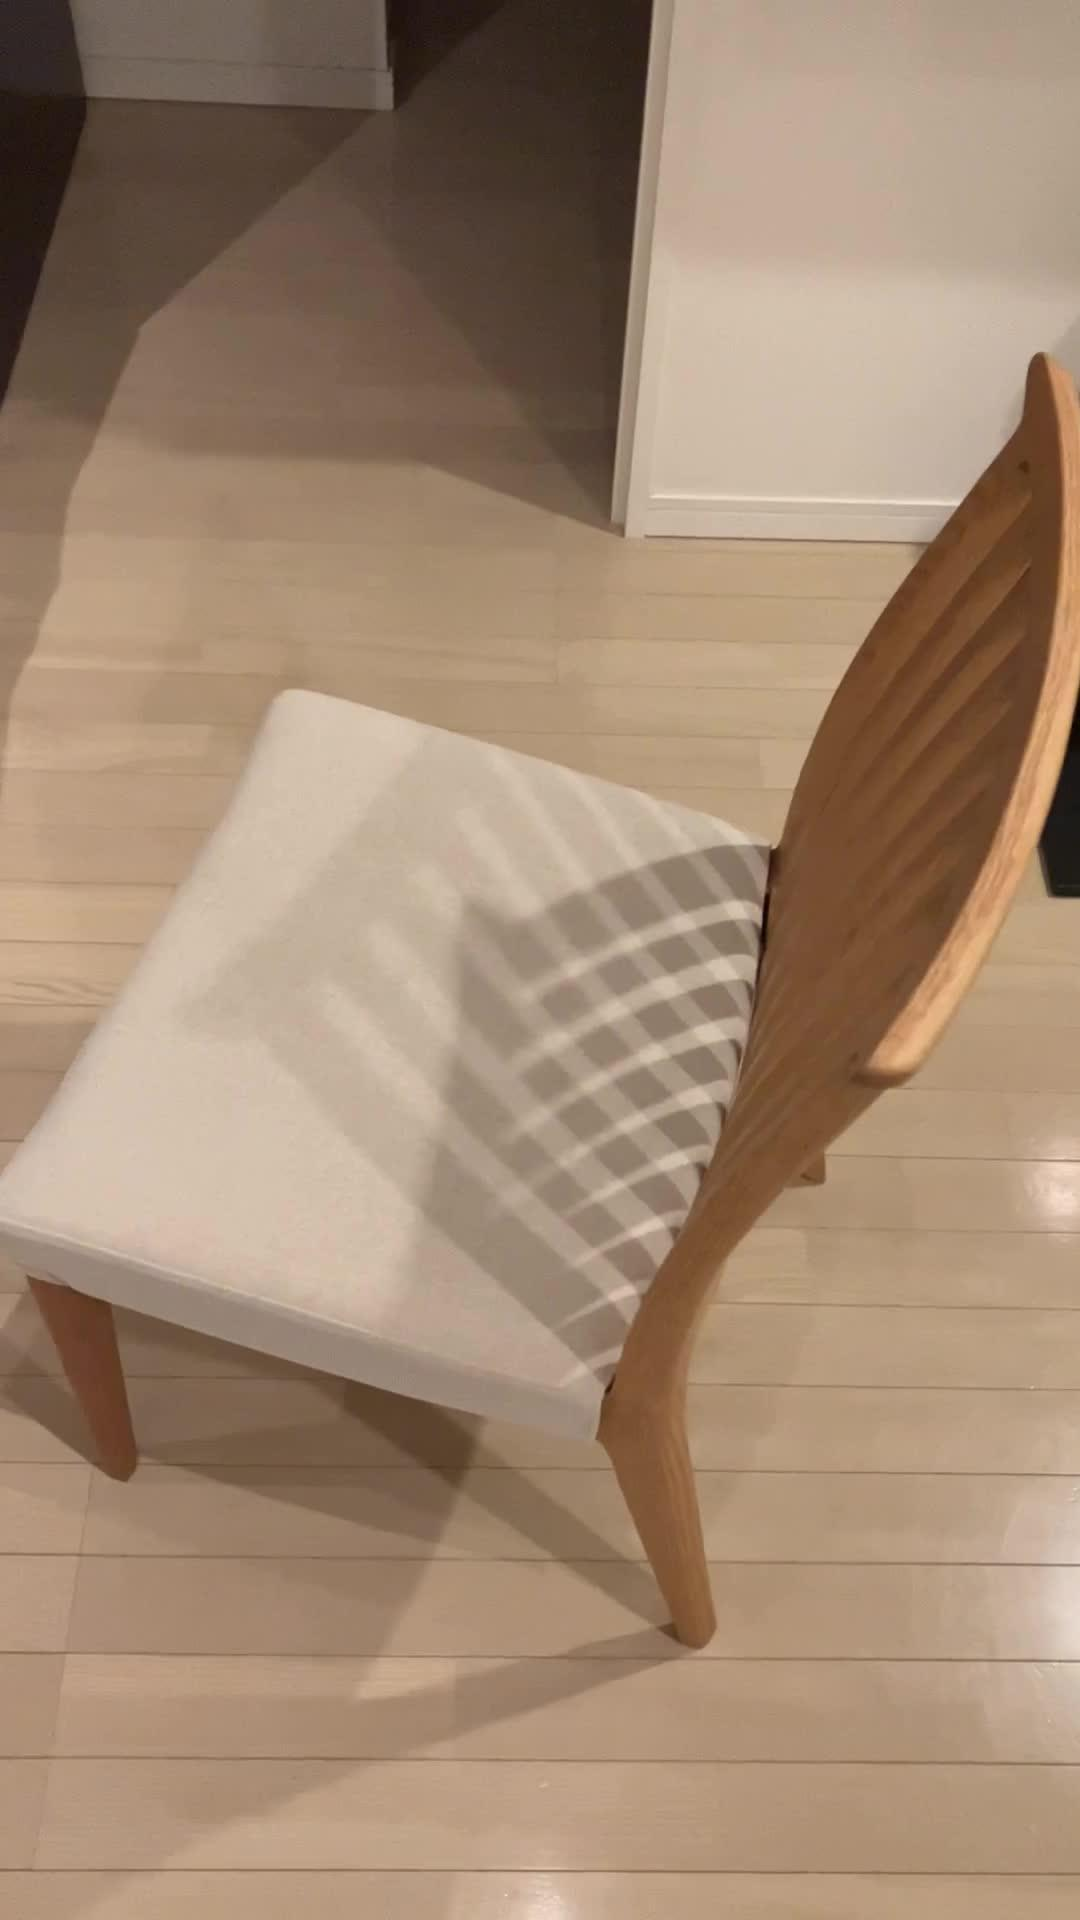takumikan-chair: (0, 348, 1080, 1646)
